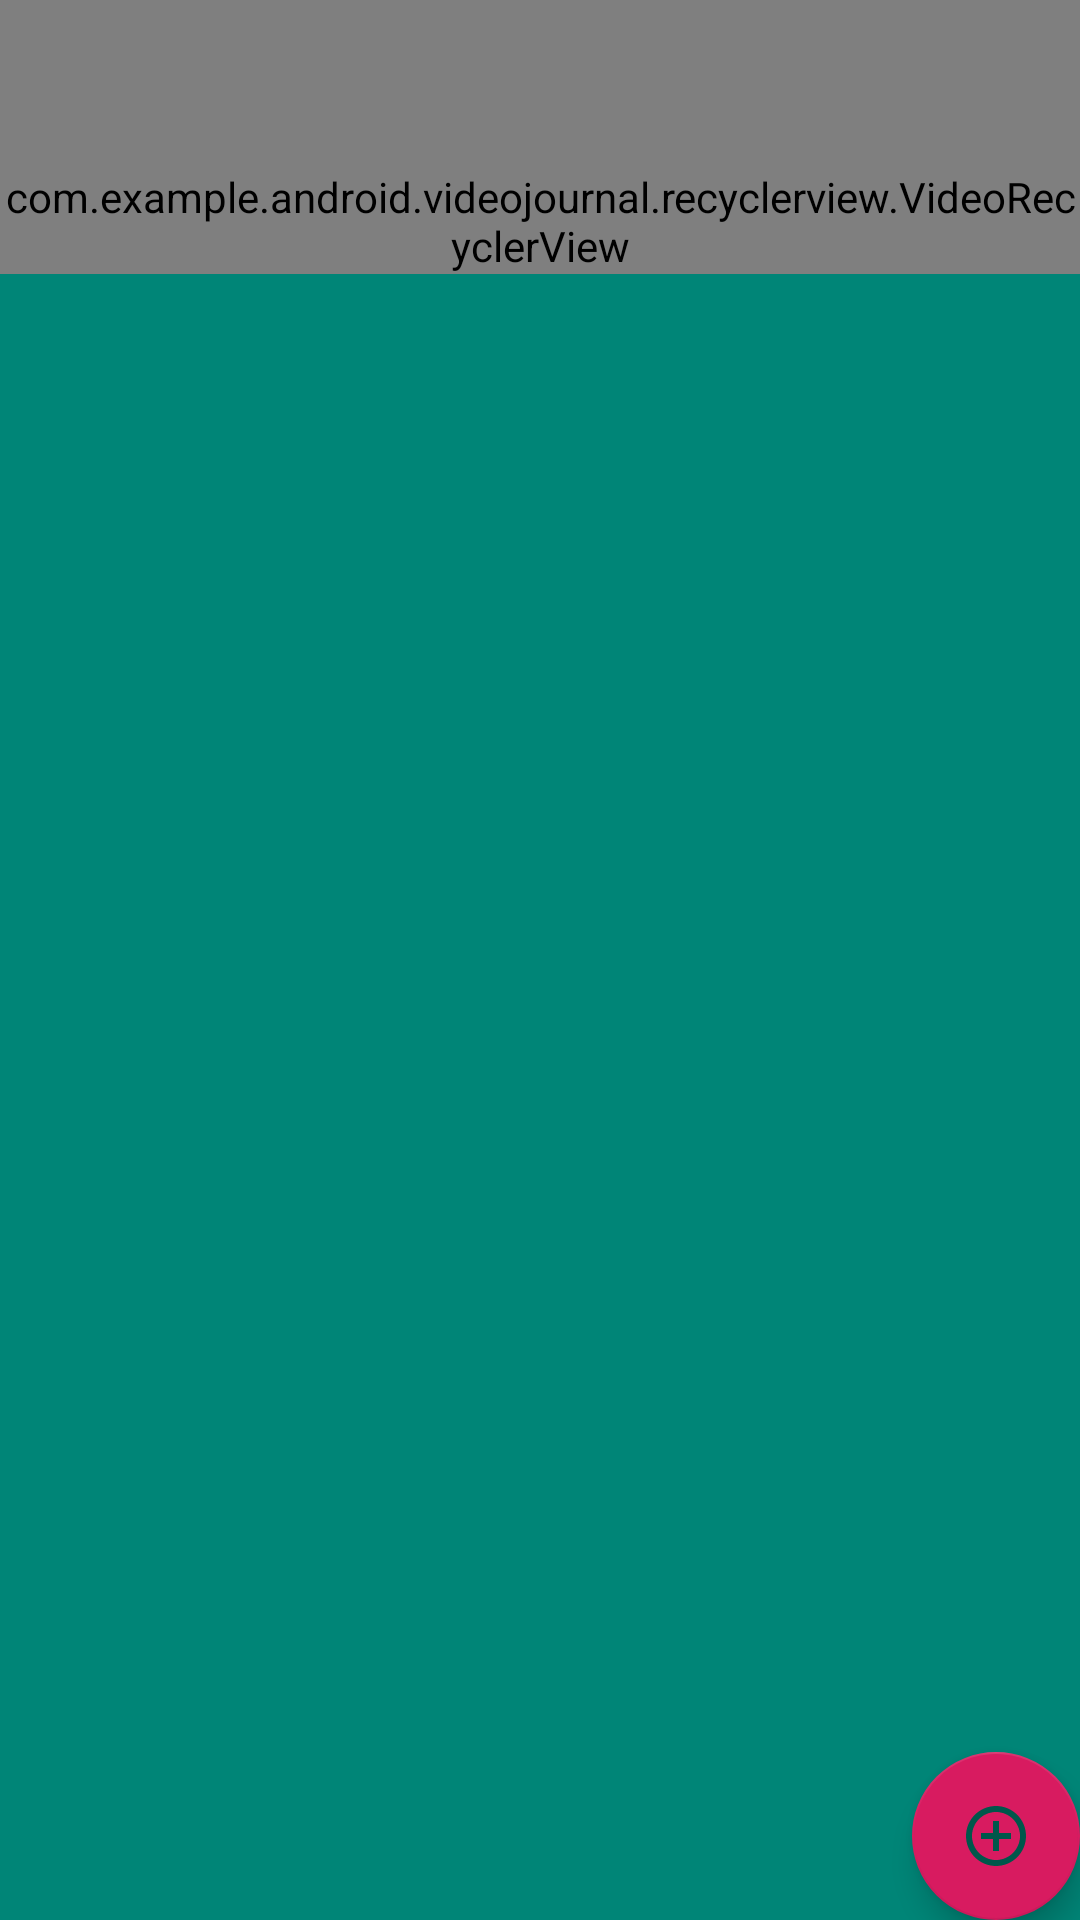

Screen size 1080w x 1920h. Icon name, then its box in pixels as (x1, y1, x2, y2):
add video: (912, 1752, 1080, 1920)
